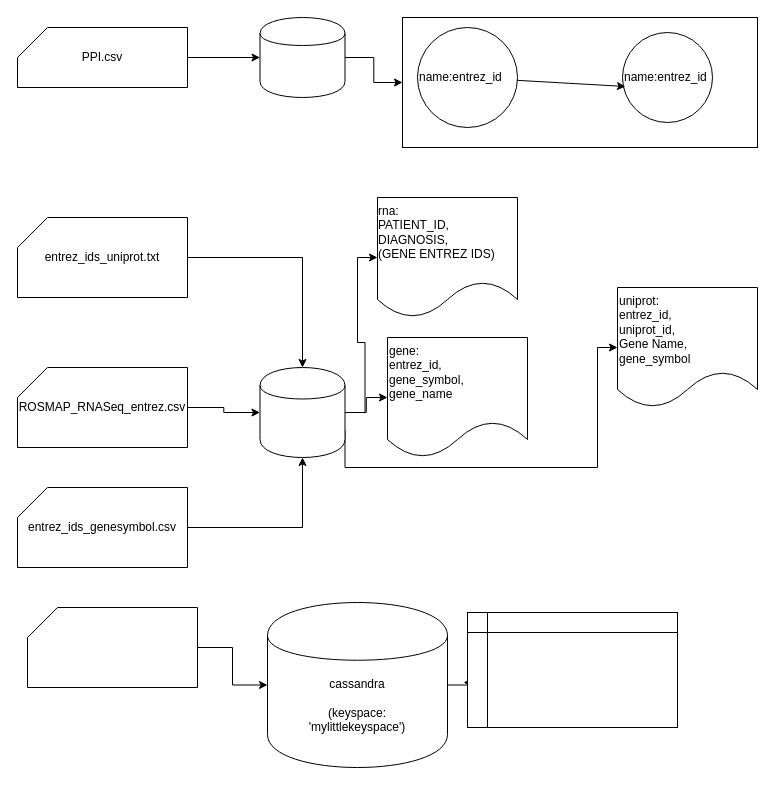
This 775x785 diagram has some shape labels left out. The shapes that lost their labels are listed below. From the top down, each one's centre as x and y in pixels, then its label:
At [302,57]: "neo4j".
At [302,412]: "mongo, (database: 'values')".
At [112,647]: "patients.csv".
At [572,670]: "patient: patient_id, age, education,".
